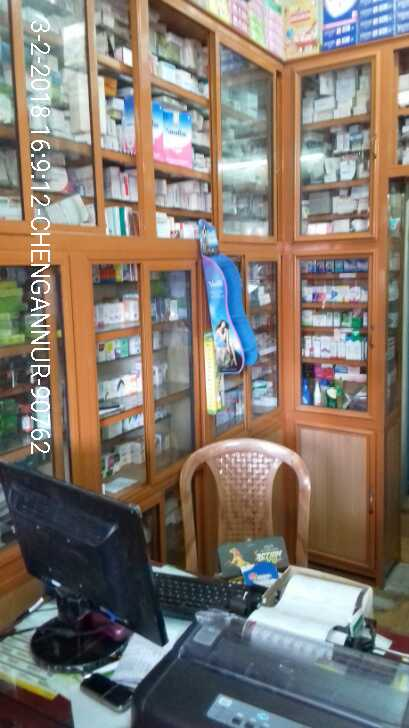reject: (169, 328, 228, 403)
